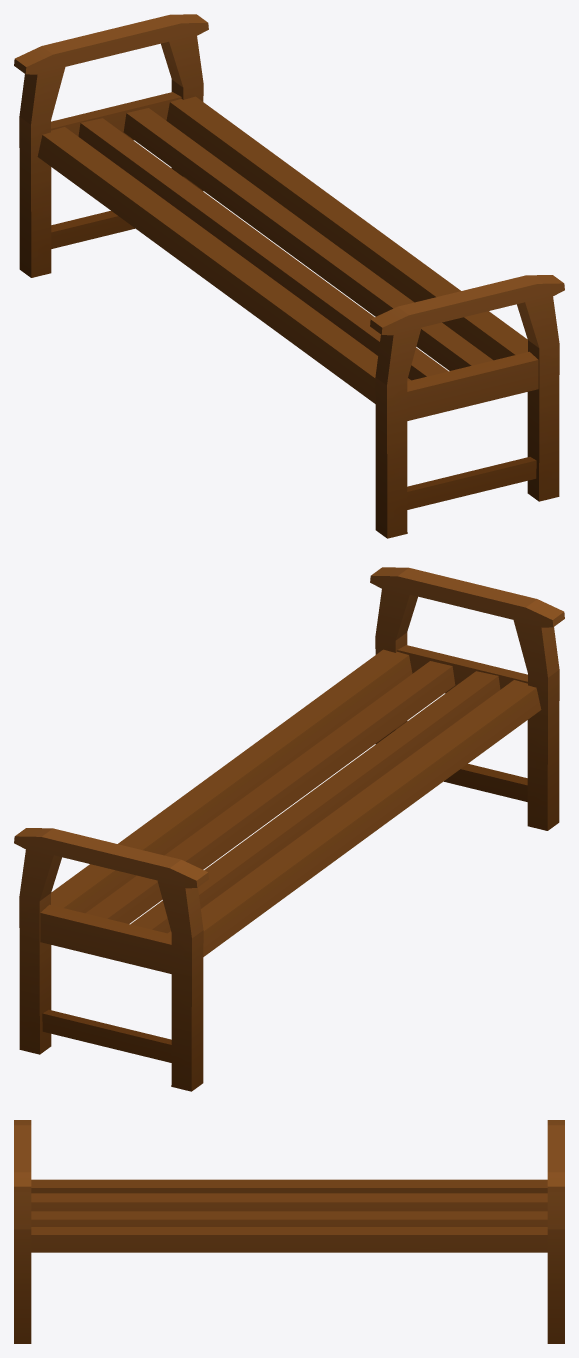
File: Park_Bench001.fbx
3 renders of one model, top to bottom at view 1: azimuth 30°, elevation 25°; view 2: azimuth 150°, elevation 25°; view 3: azimuth 270°, elevation 25°, orthographic. The views are drawn at different scales.
Visible parts, largest first — view 1: Park_Bench001; view 2: Park_Bench001; view 3: Park_Bench001.
Boxes of the visible parts, left/top/right/bottom form: Park_Bench001: left=14, top=14, right=564, bottom=538; Park_Bench001: left=14, top=567, right=564, bottom=1091; Park_Bench001: left=14, top=1120, right=564, bottom=1343.
Bounding box in the file's own units: 65.24 × 227 × 74.23.
1 material, 1 textured.
